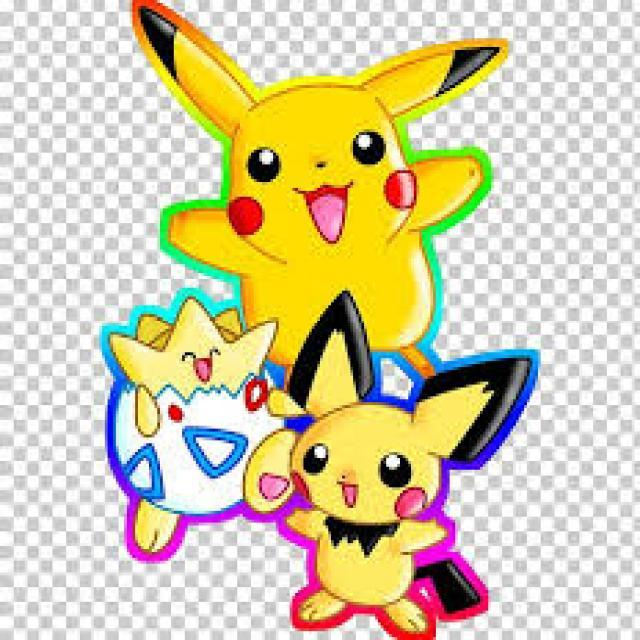pichu: (280, 333, 522, 640)
